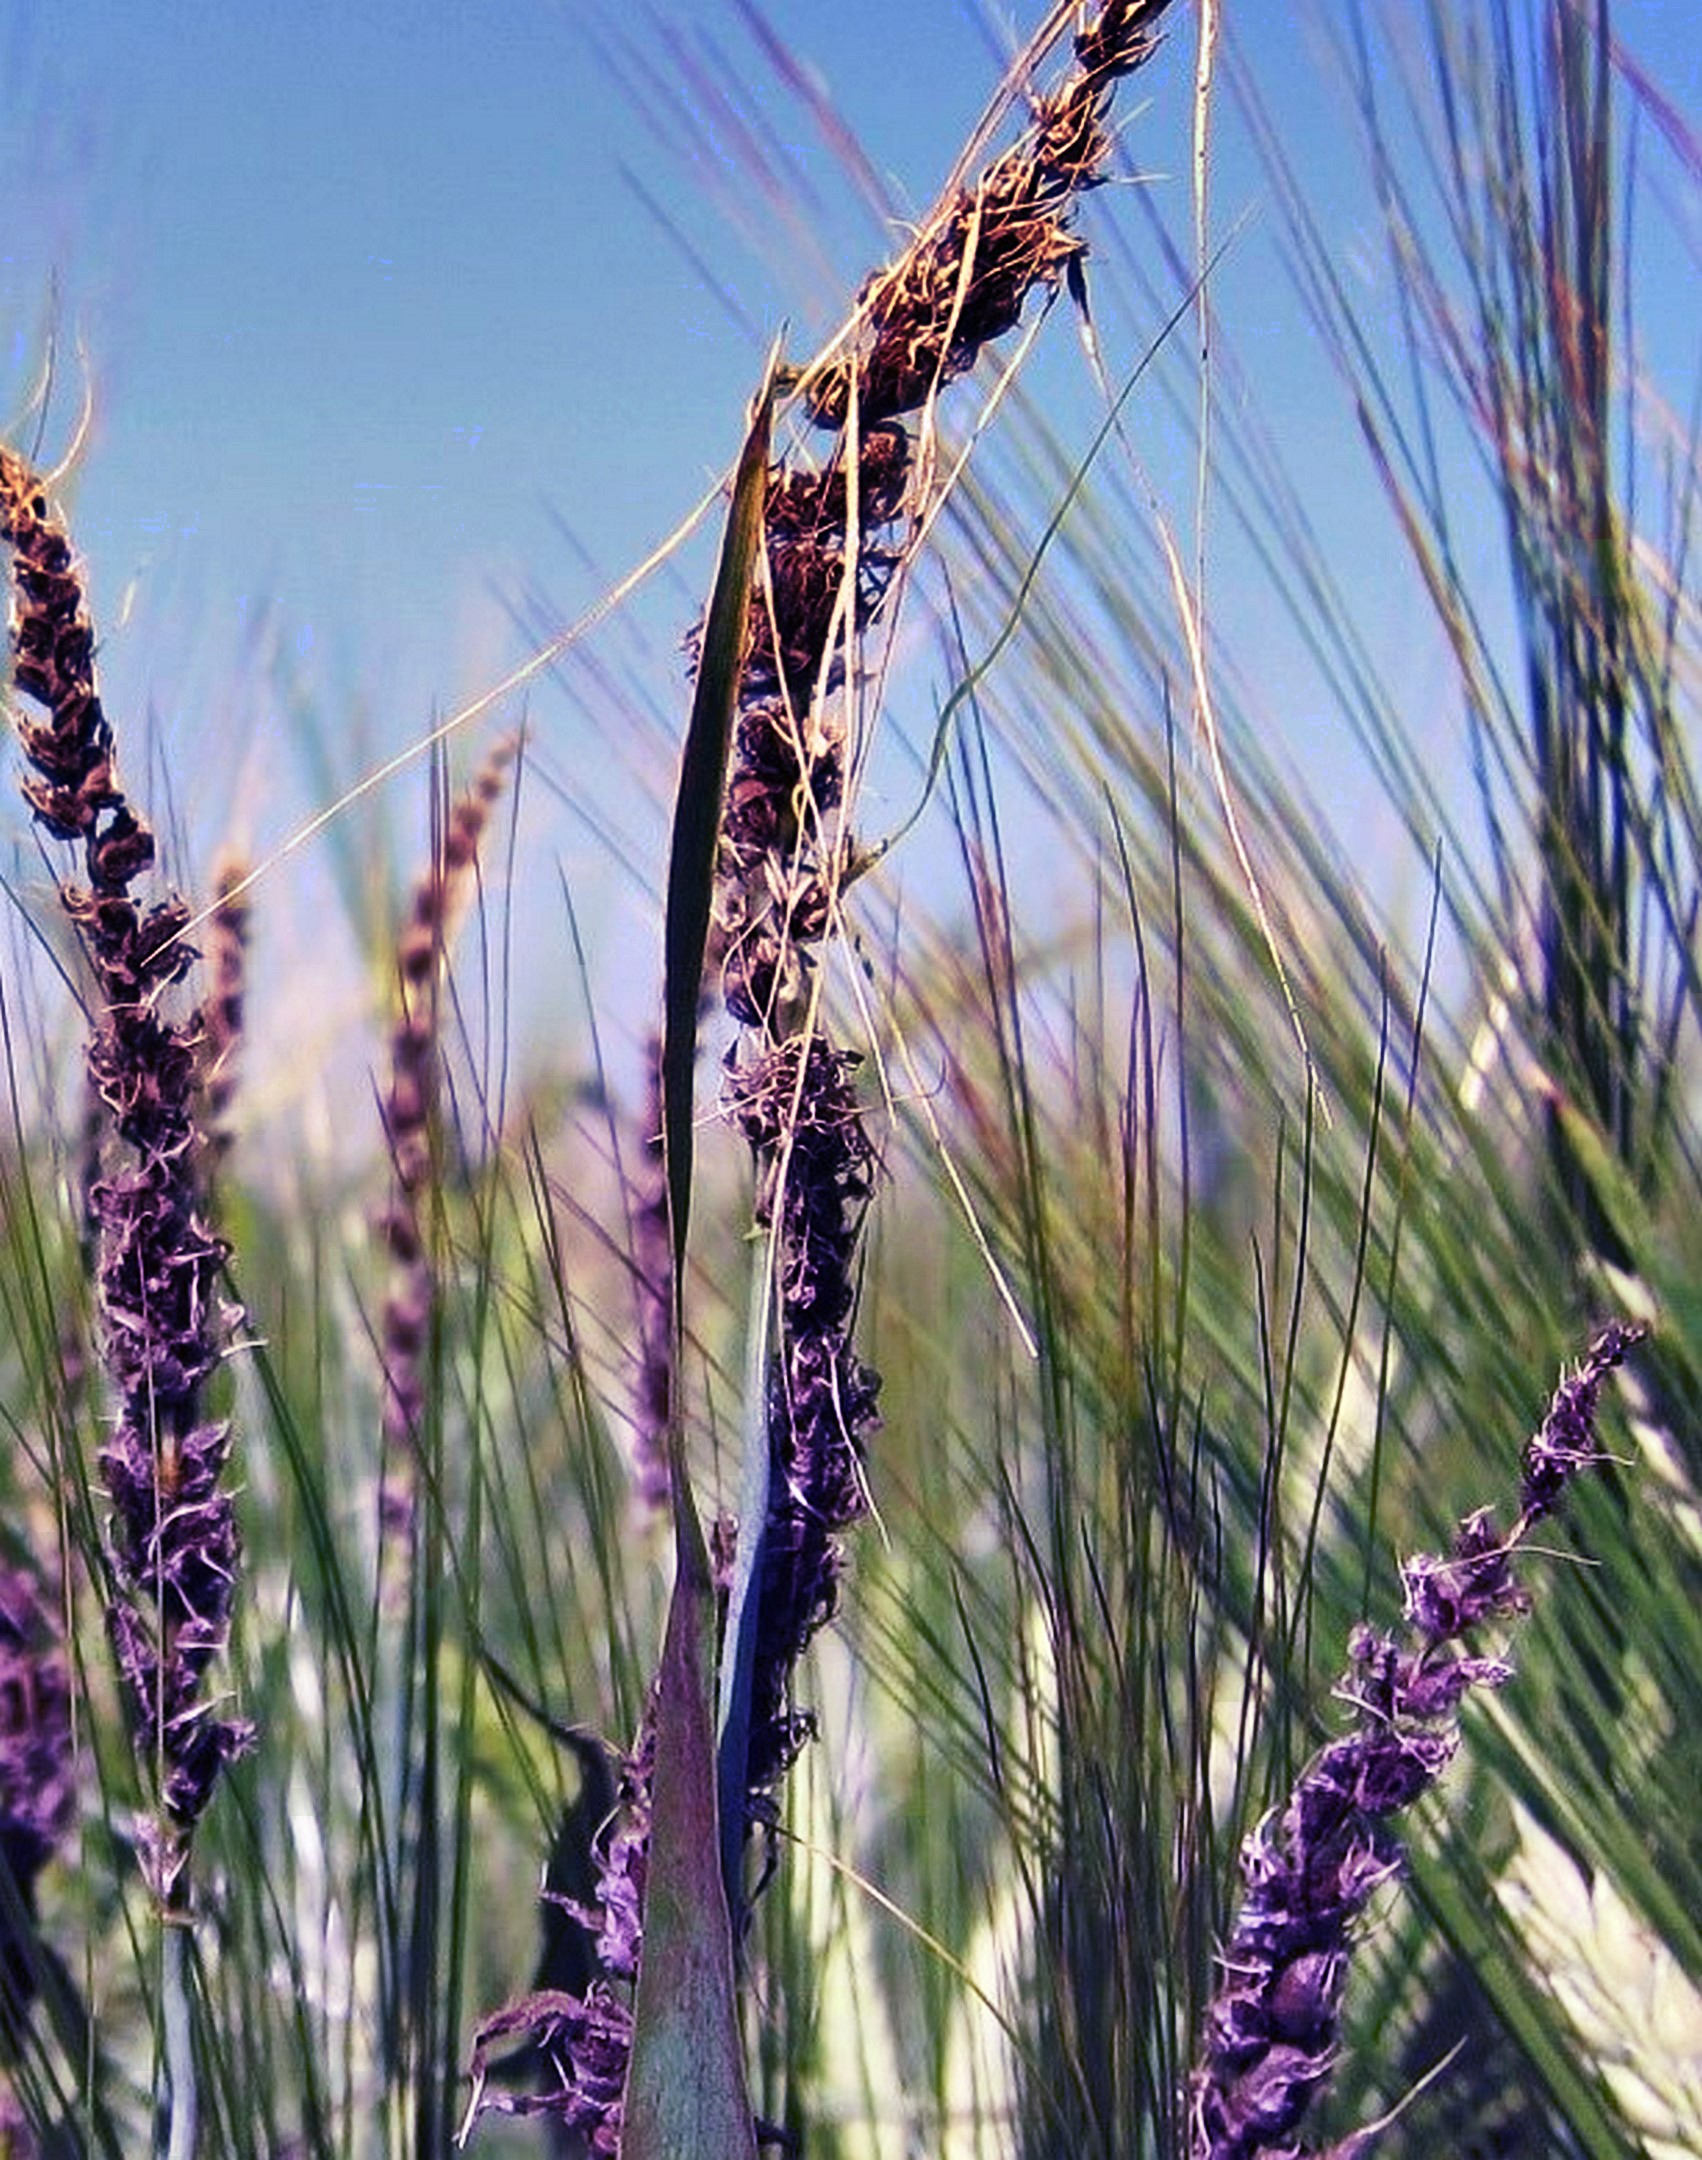Wheat Loose Smut: (685, 11, 1131, 1632), (1181, 1366, 1655, 2113), (2, 431, 265, 1692)
